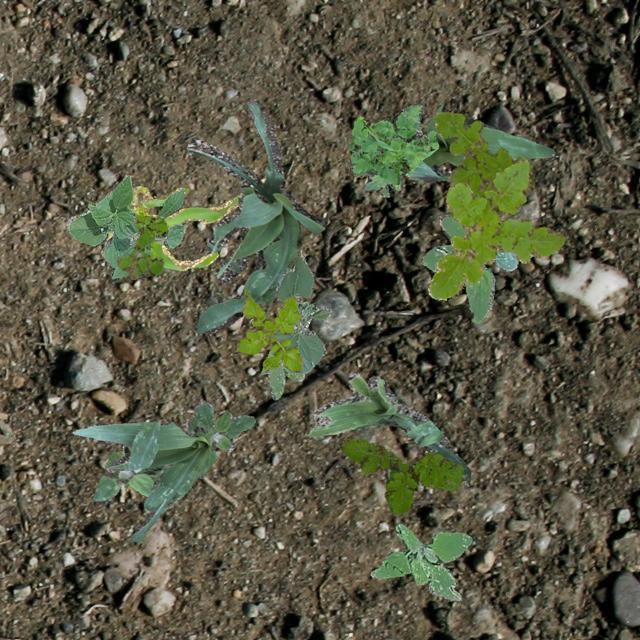crop: (186, 100, 324, 332), (308, 372, 470, 479), (72, 421, 210, 542), (402, 99, 554, 182), (65, 175, 185, 278), (106, 184, 242, 270), (274, 250, 330, 372)
weed: (426, 158, 564, 298), (420, 214, 516, 324), (338, 437, 462, 512), (433, 110, 525, 196), (348, 102, 438, 188), (370, 524, 470, 600), (236, 288, 302, 372), (183, 400, 254, 478), (260, 301, 310, 398), (91, 444, 168, 501), (116, 214, 166, 278), (362, 168, 410, 196)
